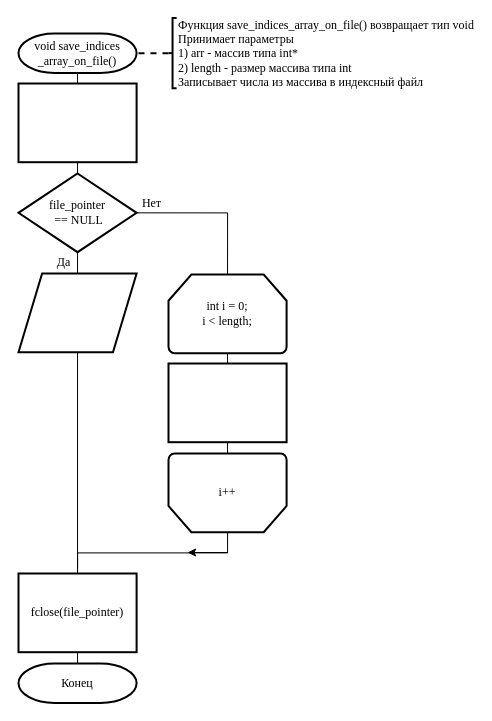
This 492x721 diagram has some shape labels left out. The centre of each missing label's shape, as x and y in pixels:
FILE* file_pointer = fopen( "indices.txt", "wt" ): point 77,122
fprintf( file_pointer, "%d\n", arr[i] ): point 227,402
Не удалось записать данные в индексный файл, т. к. он не открылся: point 77,312
